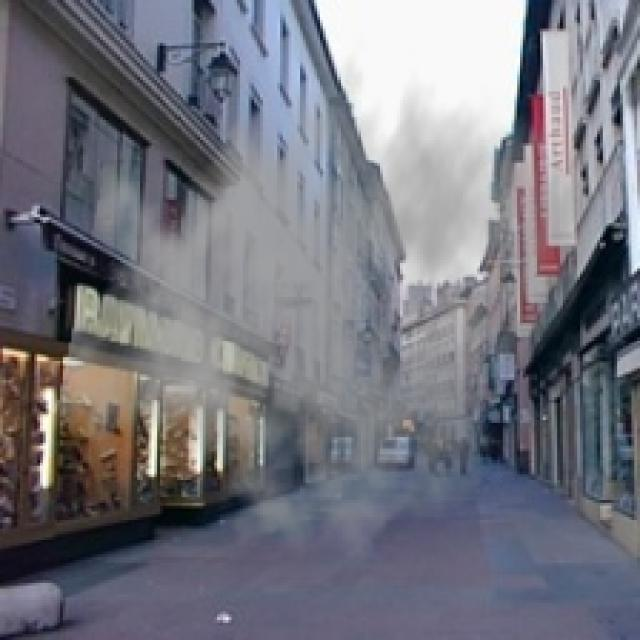Smoke: (51, 32, 588, 574)
